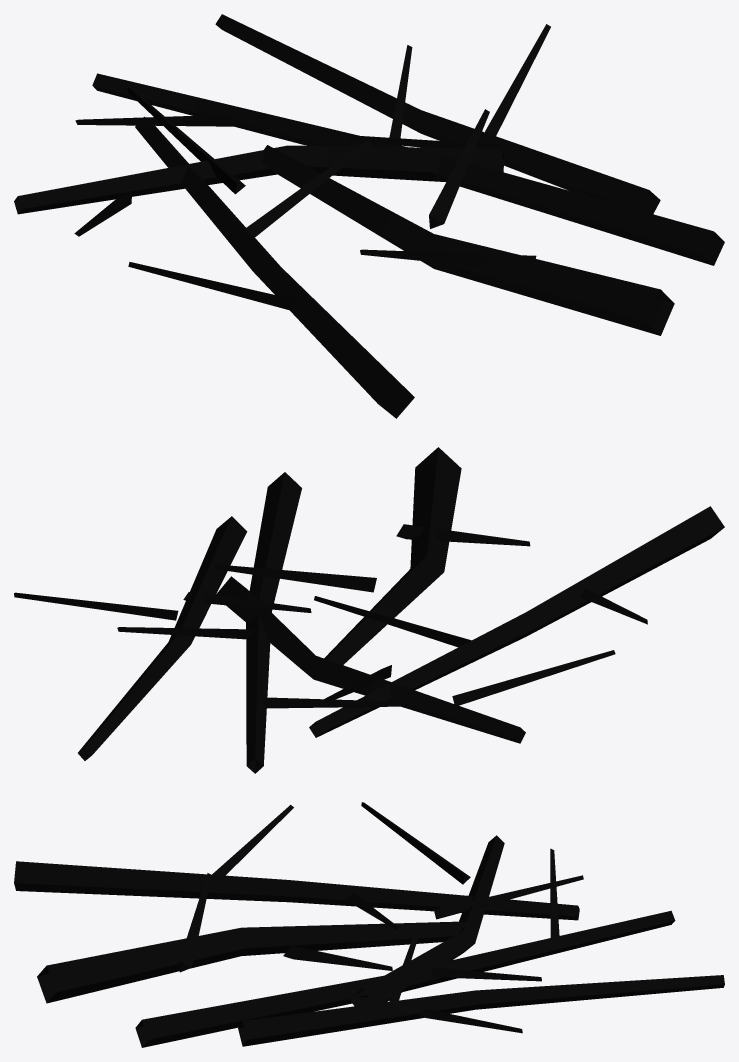
The model's file is SM_branches_fallen.fbx.
The picture shows the model from 3 angles, top to bottom: view 1: azimuth 30°, elevation 25°; view 2: azimuth 150°, elevation 25°; view 3: azimuth 270°, elevation 25°; orthographic projection. The views are drawn at different scales.
Visible parts, largest first — view 1: branches_fallen; view 2: branches_fallen; view 3: branches_fallen.
Boxes of the visible parts, bbox=[...] form: branches_fallen: bbox=[14, 14, 724, 418]; branches_fallen: bbox=[14, 447, 724, 773]; branches_fallen: bbox=[14, 802, 724, 1047].
Bounding box in the file's own units: 1.61 × 0.1696 × 2.13.
